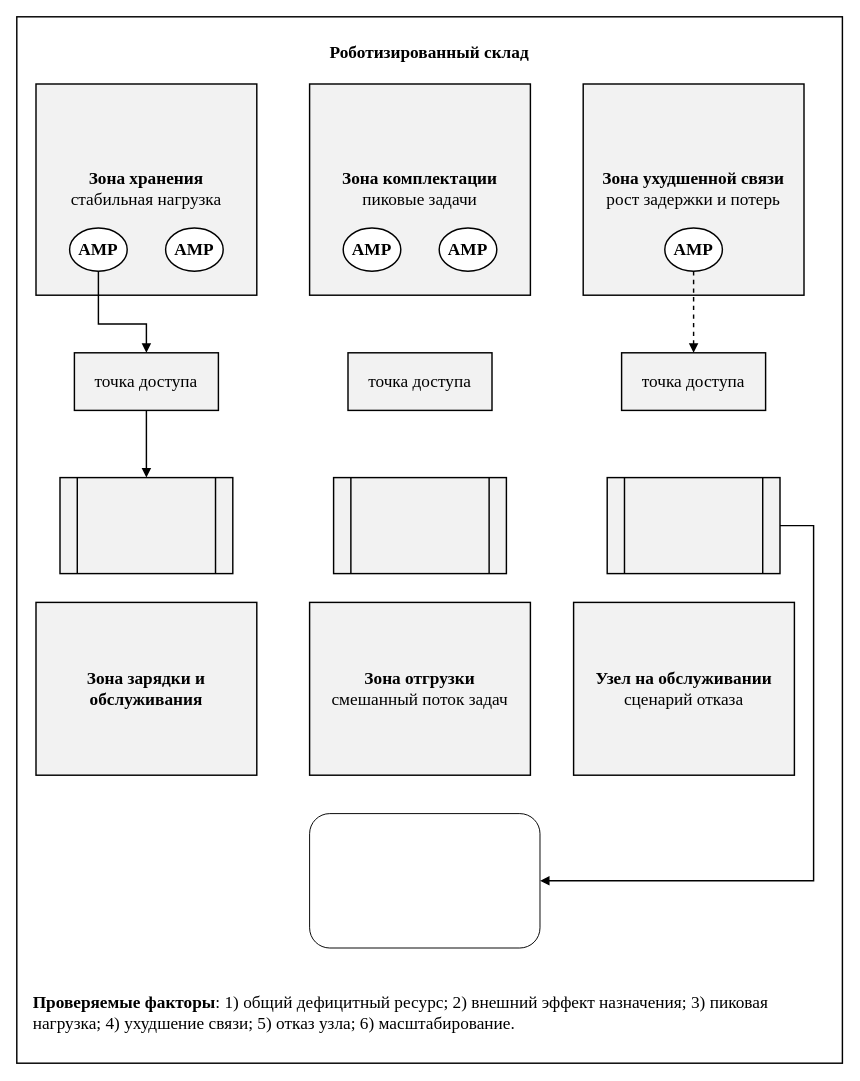
Image size: 860x1081. Some labels were removed from this diagram. The shapes that lost their labels are listed below. From the top down, each one's centre as x and y in pixels, then its label:
[146,525]: Edge-S локальный узел
[419,525]: Edge-M общий узел
[693,525]: Edge-G узел с ускорителем
[424,880]: Облако / сервер обучения журналы, моделирование, обучение
